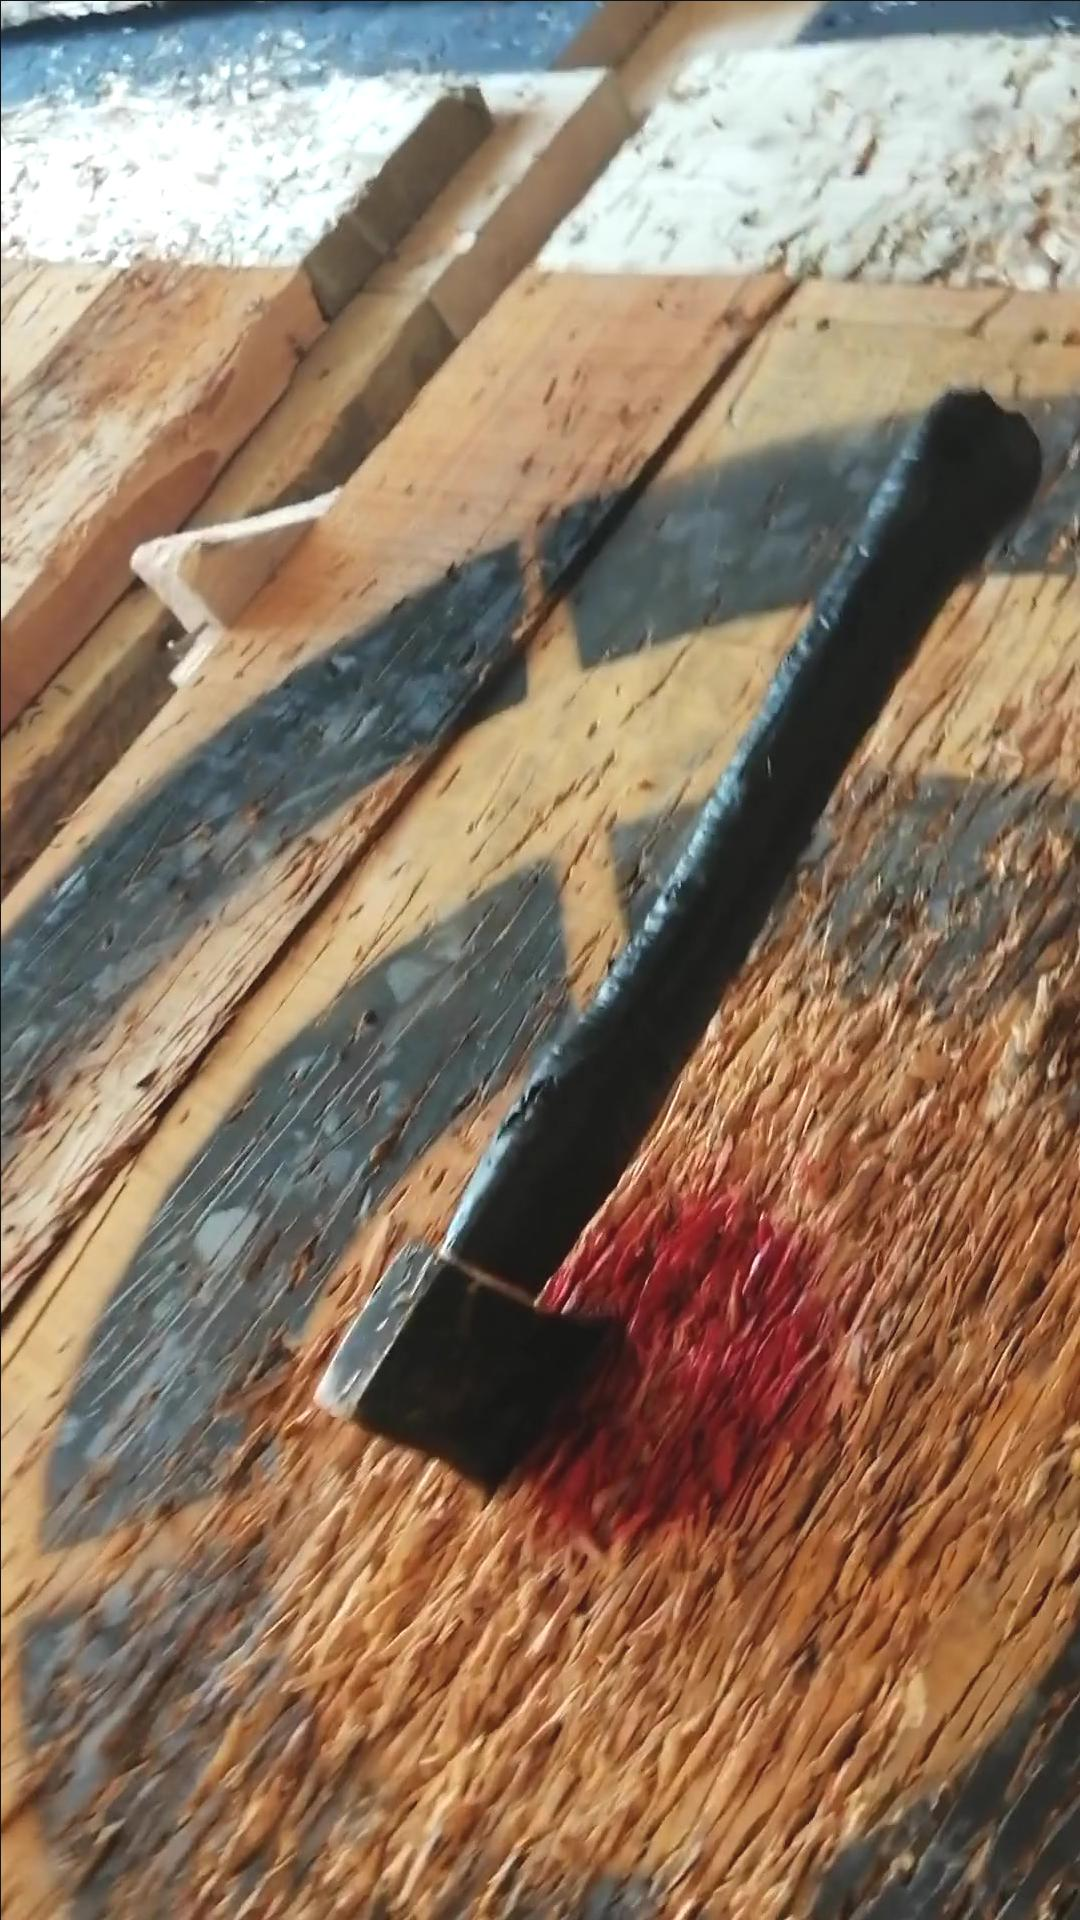Hand Axe: (309, 1240, 630, 1509)
